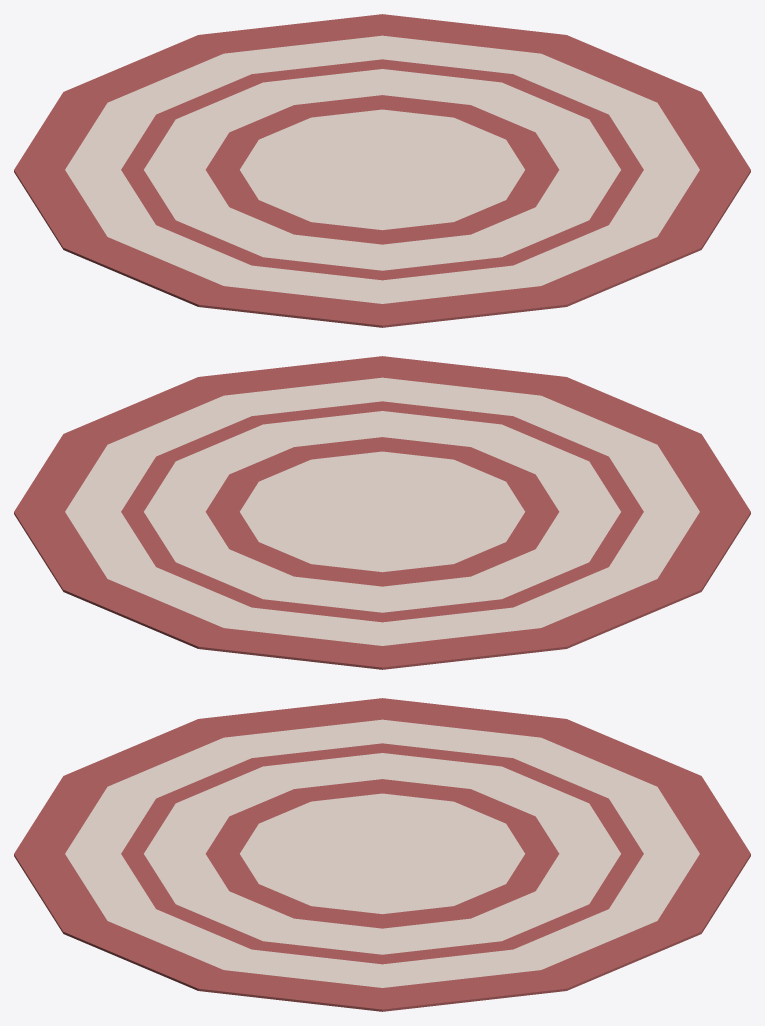
The model's file is Carpet_4_231109.glb.
3 views of the same model, one above another, from view 1: azimuth 30°, elevation 25°; view 2: azimuth 150°, elevation 25°; view 3: azimuth 270°, elevation 25° (orthographic).
Parts seen in each view (by area): view 1: Carpet_4; view 2: Carpet_4; view 3: Carpet_4.
Boxes of the visible parts, x1,y1,x2,y2 form: Carpet_4: (14, 14, 750, 327); Carpet_4: (14, 356, 750, 669); Carpet_4: (14, 698, 750, 1011).
Bounding box in the file's own units: 2.71 × 0.00927 × 2.71.
Materials: 1 (1 with a texture image).
